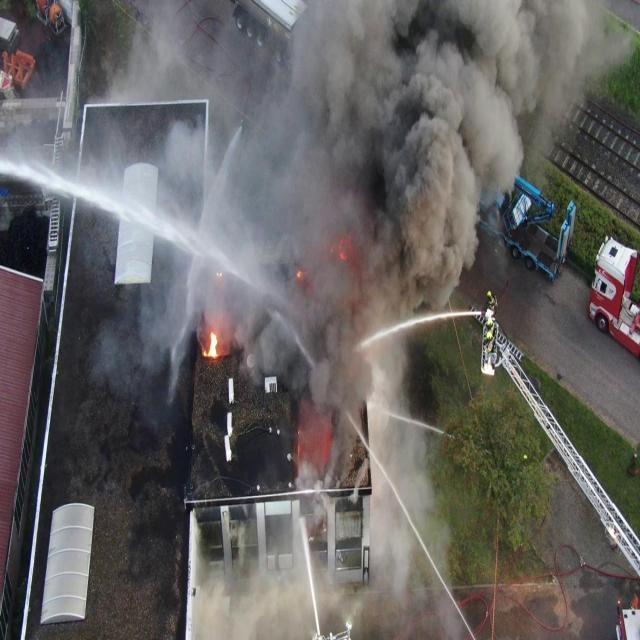Fire: (207, 332, 217, 356), (216, 271, 222, 277), (203, 349, 207, 356), (297, 271, 301, 278)
Smoke: (87, 0, 640, 640)
